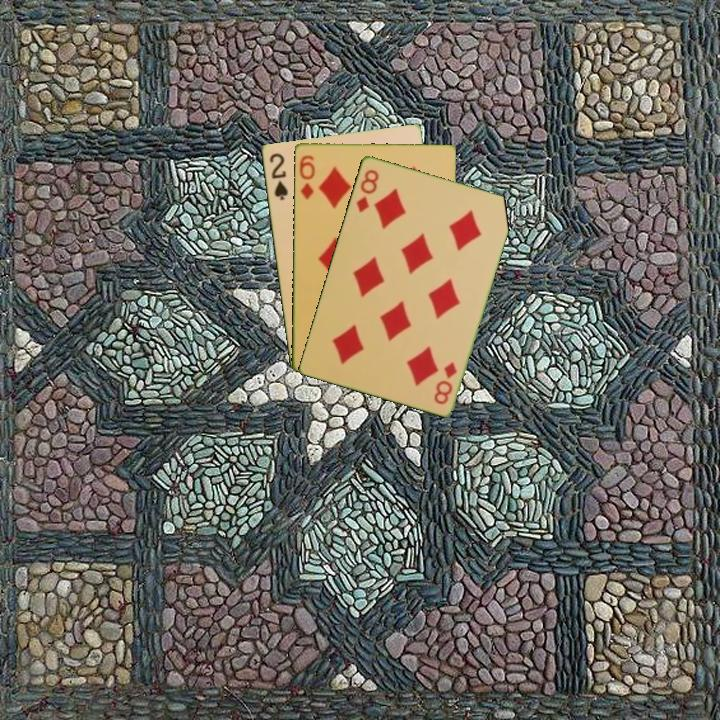2s: (266, 149, 291, 203)
6d: (296, 151, 317, 202)
8d: (352, 165, 382, 215), (430, 358, 459, 407)
